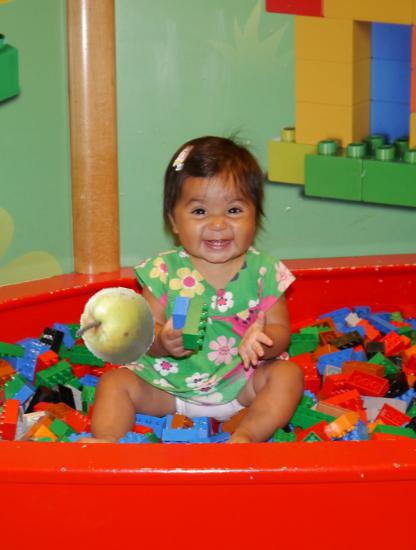Pear: (77, 287, 157, 367)
